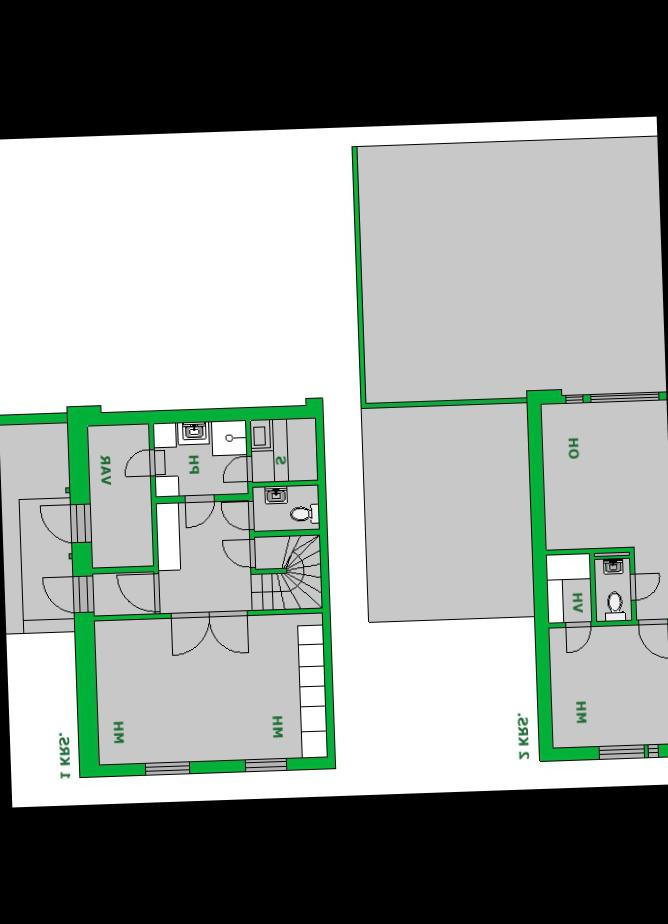door: (109, 566, 162, 614), (207, 608, 254, 660), (165, 608, 211, 660), (32, 498, 80, 546), (42, 570, 84, 617), (633, 616, 668, 661), (121, 447, 167, 481), (214, 493, 252, 533), (213, 450, 253, 486), (219, 536, 257, 572), (178, 496, 215, 529), (632, 566, 662, 606), (560, 619, 591, 657)
window: (582, 384, 664, 408), (132, 756, 197, 782), (587, 736, 643, 764), (241, 753, 293, 779), (558, 390, 588, 405), (642, 744, 664, 762)
